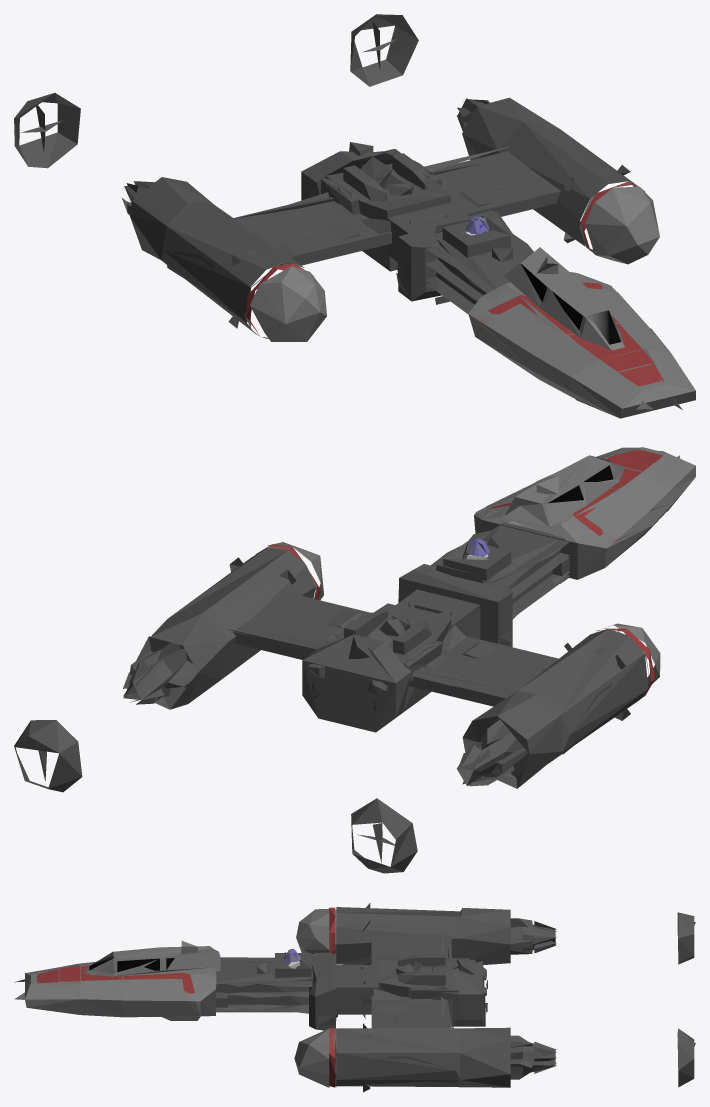
Rendered from ywing.glb.
3 renders of one model, top to bottom at view 1: azimuth 30°, elevation 25°; view 2: azimuth 150°, elevation 25°; view 3: azimuth 270°, elevation 25°, orthographic. The views are drawn at different scales.
Visible parts, largest first — view 1: ywing; view 2: ywing; view 3: ywing.
Boxes of the visible parts, x1,y1,x2,y2 form: ywing: [14, 14, 695, 418]; ywing: [14, 447, 695, 873]; ywing: [14, 903, 695, 1092].
Bounding box in the file's own units: 7.8 × 2.05 × 15.39.
